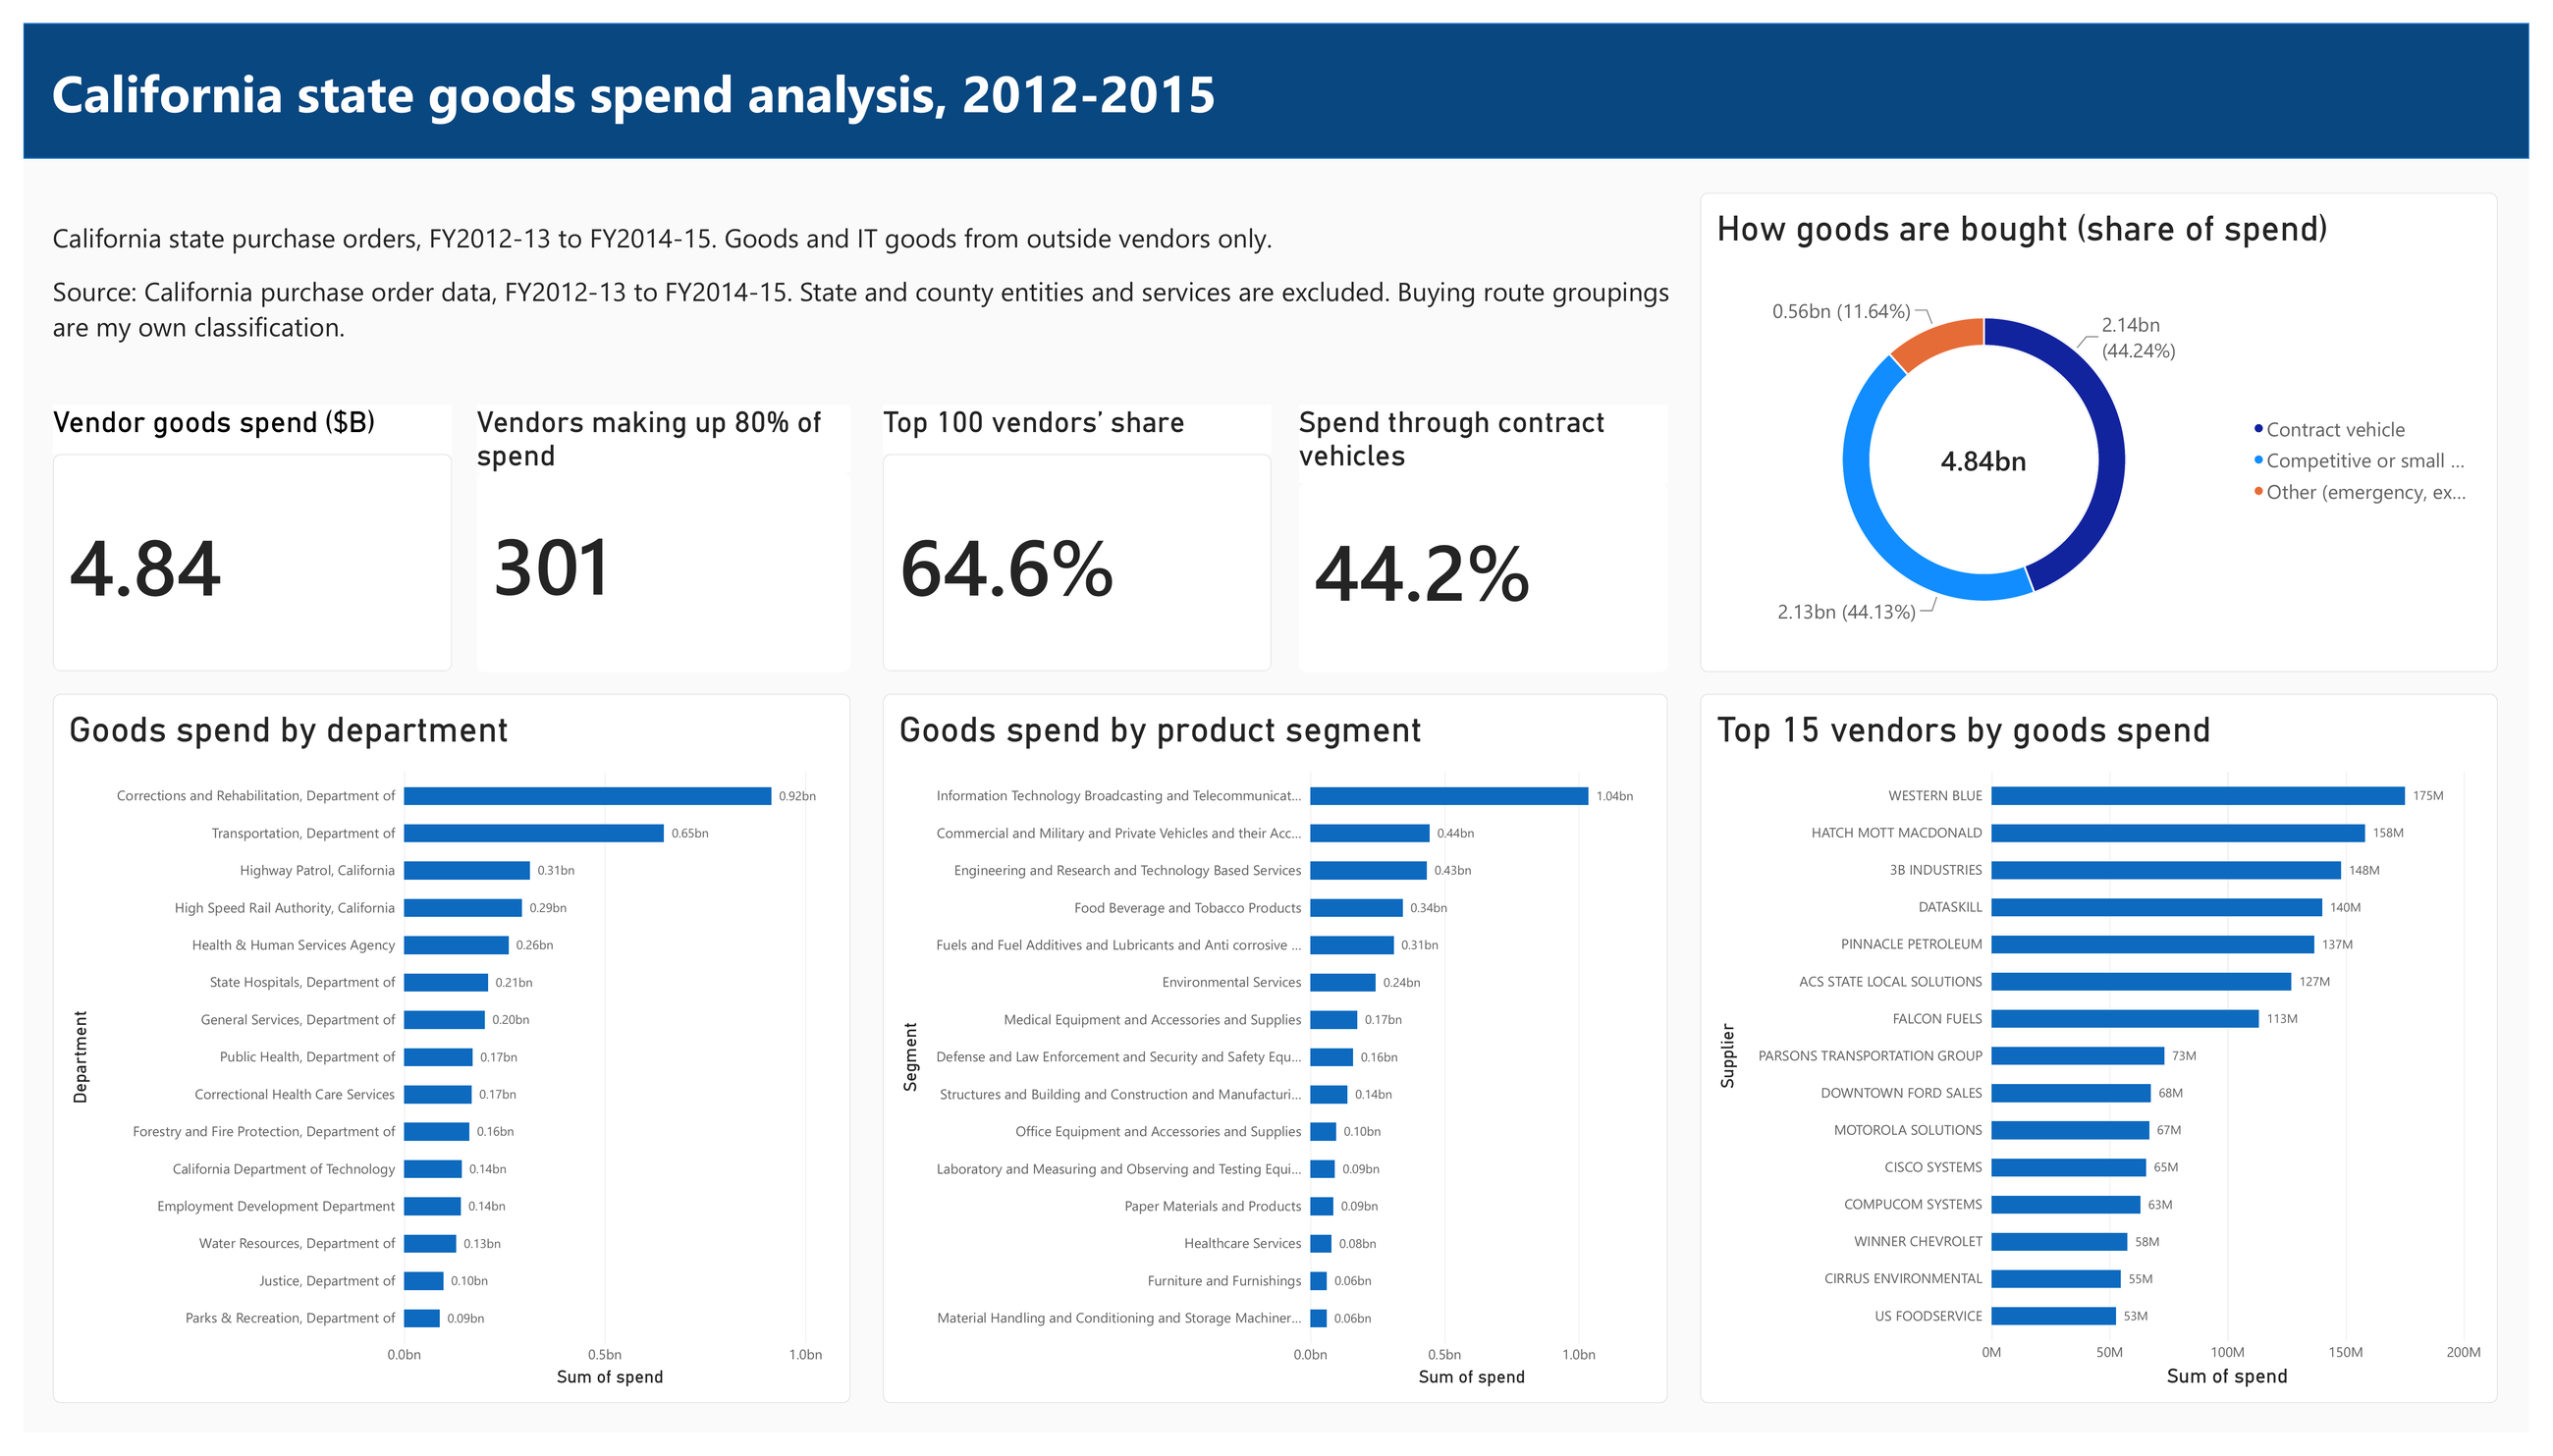

The dashboard page shown, as its layout file describes it:
{"tool":"powerbi","page":{"name":"Spend overview","canvas":[2560,1440],"ordinal":0},"visuals":[{"type":"cardVisual","title":"Vendors making up 80% of spend","fields":{"Data":["monthly_goods.Vendors for 80 Percent"]},"box":[462.5,390,382.5,272.5],"z":0},{"type":"cardVisual","title":"Spend through contract vehicles","fields":{"Data":["monthly_goods.Contract Vehicle Share"]},"box":[1302.5,390,377.5,272.5],"z":1000},{"type":"cardVisual","title":"Top 100 vendors’ share","fields":{"Data":["monthly_goods.Top 100 Vendor Share"]},"box":[877.5,390,397.5,272.5],"z":2000},{"type":"cardVisual","title":"Vendor goods spend ($B)","fields":{"Data":["monthly_goods.Total Spend ($B)"]},"box":[30,390,407.5,272.5],"z":3000},{"type":"clusteredBarChart","title":"Goods spend by department","fields":{"Category":["department_spend.department"],"Y":["Sum(department_spend.spend)"]},"box":[30,685,815,725],"z":4000},{"type":"clusteredBarChart","title":"Goods spend by product segment","fields":{"Category":["segment_spend.segment"],"Y":["Sum(segment_spend.spend)"]},"box":[877.5,685,802.5,725],"z":5000},{"type":"clusteredBarChart","title":"Top 15 vendors by goods spend","fields":{"Category":["top_vendors.supplier_clean"],"Y":["Sum(top_vendors.spend)"]},"box":[1712.5,685,815,725],"z":6000},{"type":"donutChart","title":"How goods are bought (share of spend)","fields":{"Category":["buying_route.buying_route"],"Y":["Sum(buying_route.spend)"]},"box":[1712.5,172.5,815,490],"z":7000},{"type":"shape","box":[0,0,2560,137.5],"z":8000},{"type":"textbox","box":[0,655,30,150],"z":9000},{"type":"textbox","box":[30,200,1682.5,165],"z":10000}]}

Visuals, with their boxes in screenshot pixels (x1, y1, x2, y2), scaled from the page's 2560x1440 canvas onto the 2553x1456 screenshot:
"Vendors making up 80% of spend" cardVisual: (462, 395, 842, 670)
"Spend through contract vehicles" cardVisual: (1299, 395, 1675, 670)
"Top 100 vendors’ share" cardVisual: (875, 395, 1272, 670)
"Vendor goods spend ($B)" cardVisual: (29, 395, 436, 670)
"Goods spend by department" clusteredBarChart: (29, 692, 842, 1426)
"Goods spend by product segment" clusteredBarChart: (875, 692, 1675, 1426)
"Top 15 vendors by goods spend" clusteredBarChart: (1708, 692, 2521, 1426)
"How goods are bought (share of spend)" donutChart: (1708, 175, 2521, 670)
shape: (0, 0, 2552, 139)
textbox: (0, 663, 29, 814)
textbox: (29, 202, 1708, 369)
